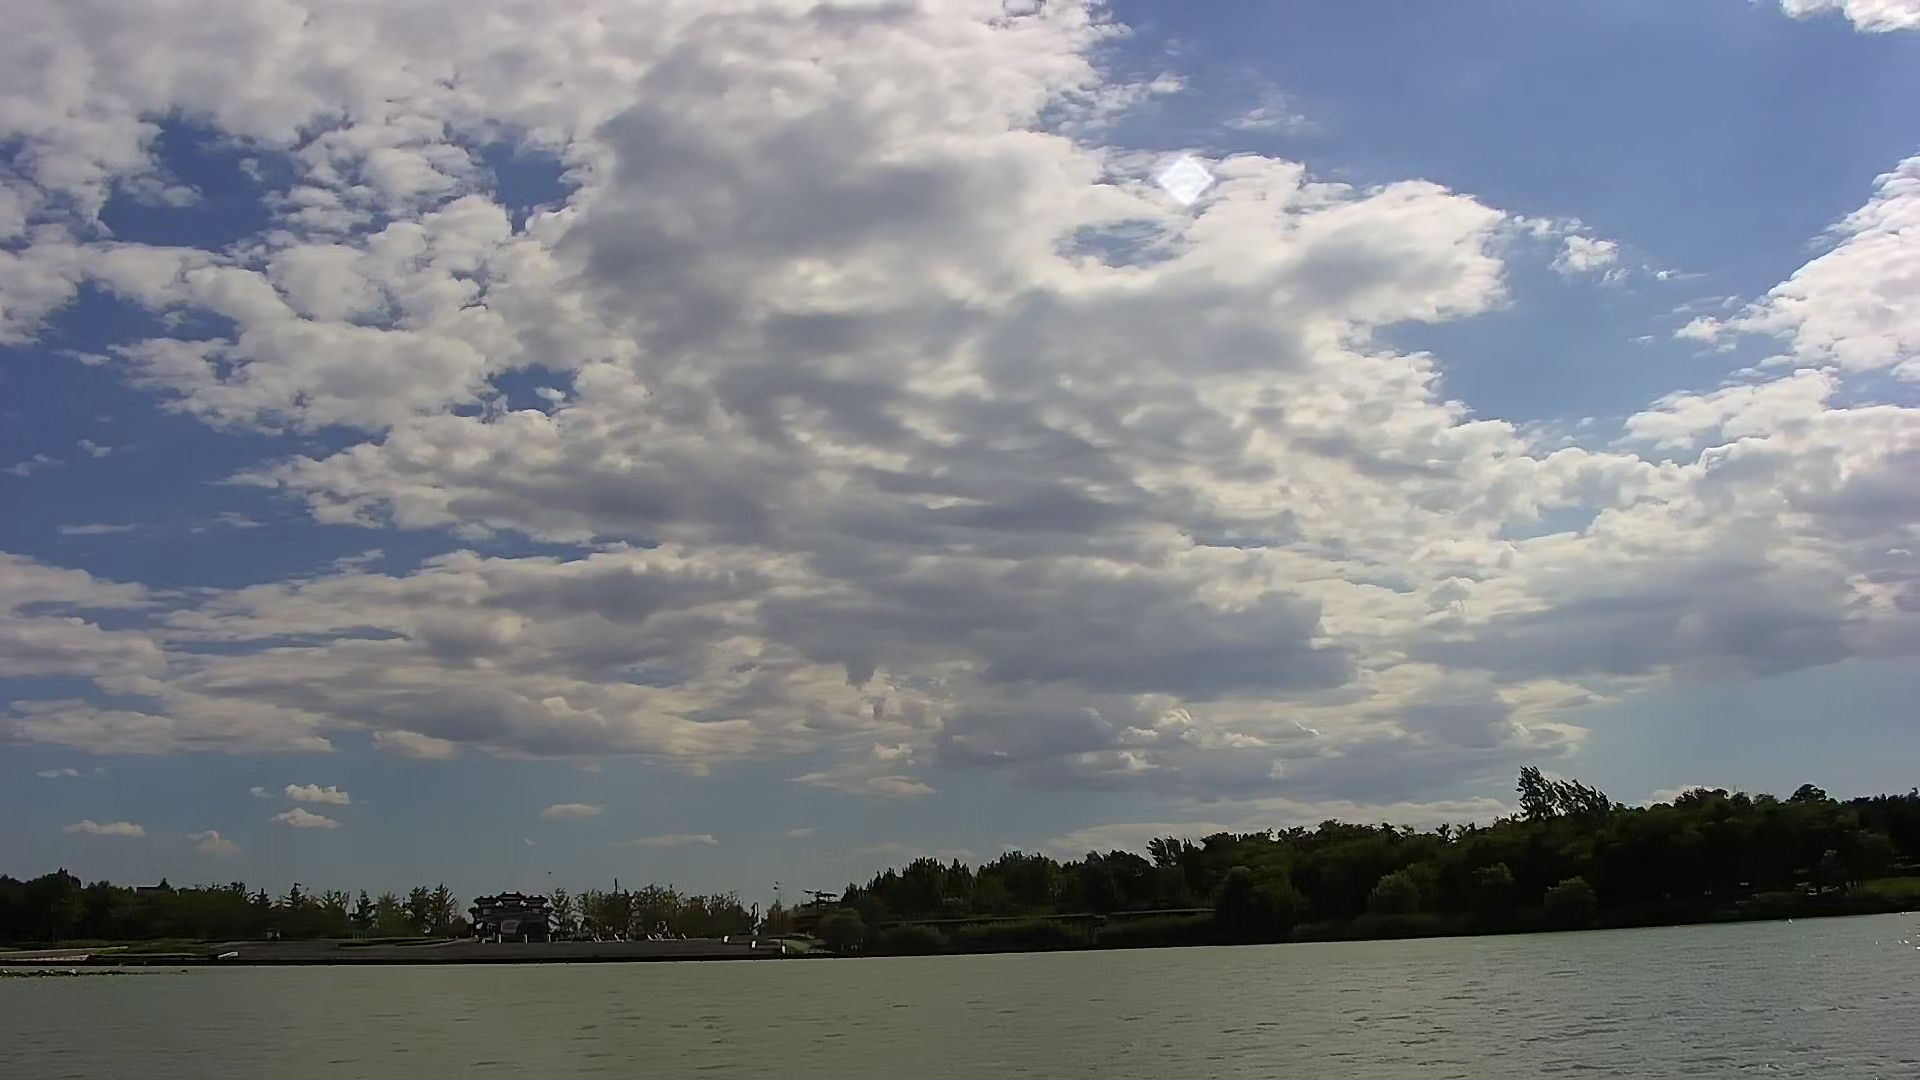harbor: (208, 926, 837, 972)
